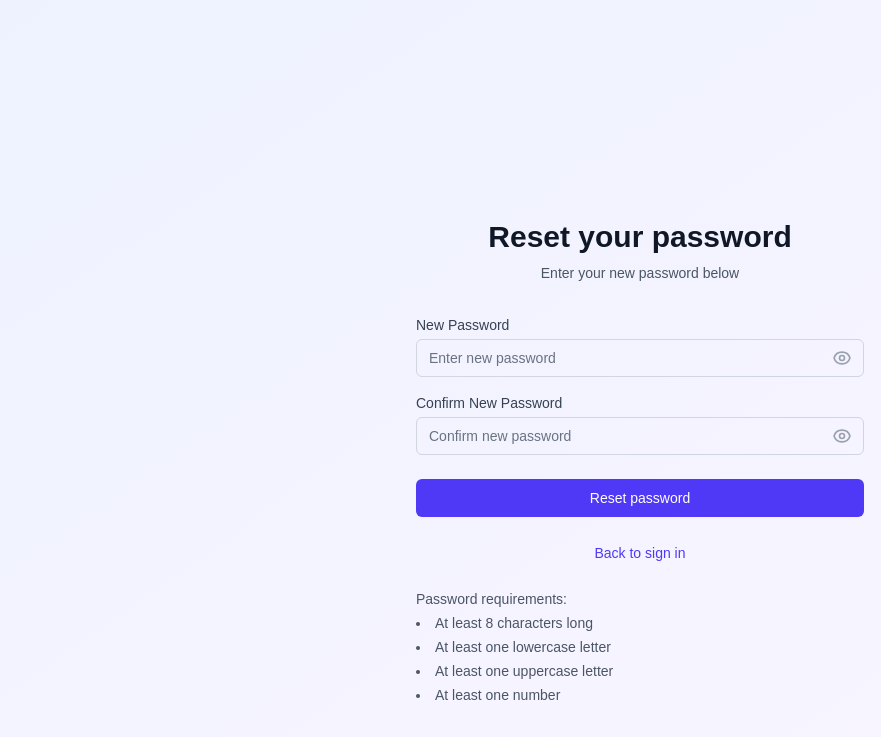
ResetPasswordForm › handles password validation edge cases
This screenshot has width=881, height=737.
# Test empty password
Clear the password field labelled "New Password": (640, 358) [416,339,864,377]
# Test password with only numbers
In the password field labelled "New Password": (640, 358) [416,339,864,377], type "12345678"
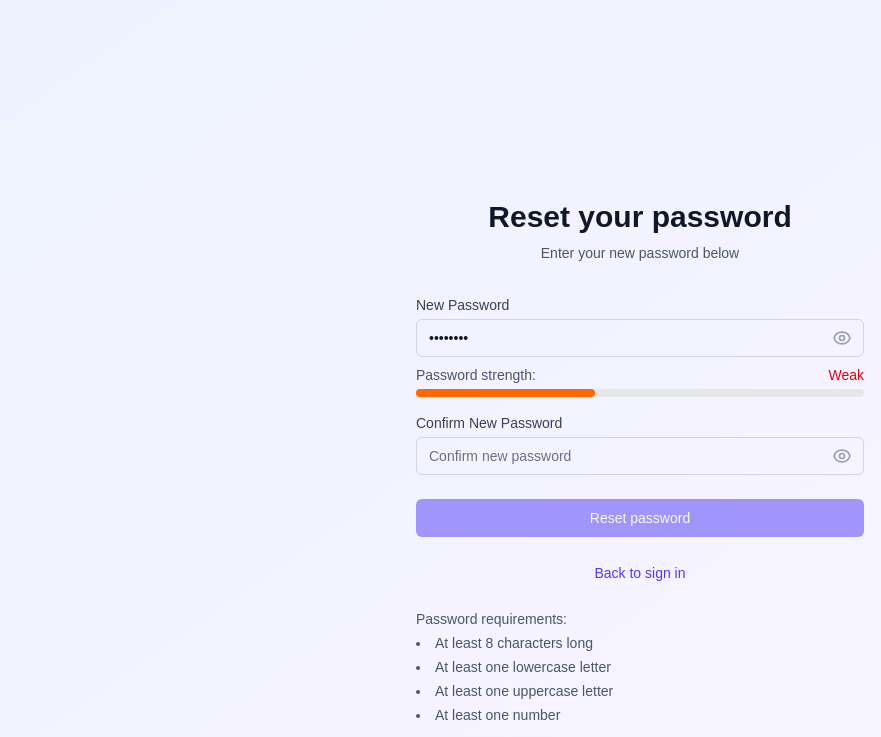
Expected: the text "Weak" is shown, [828,365,864,385]
